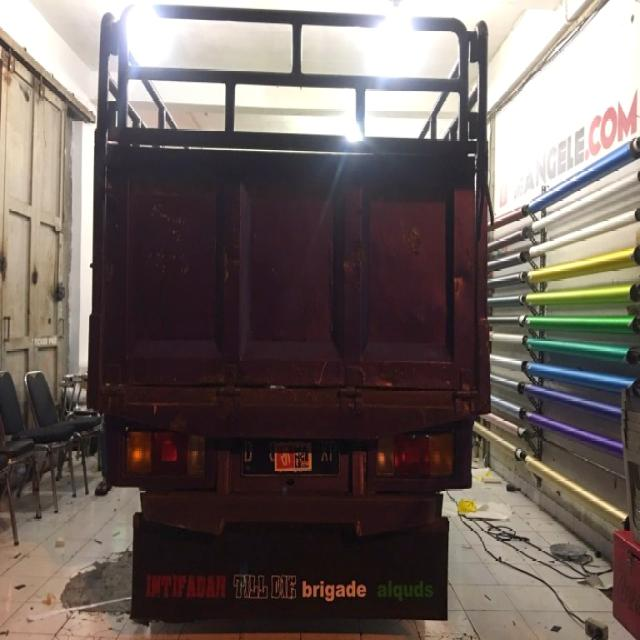truck: (89, 1, 490, 631)
